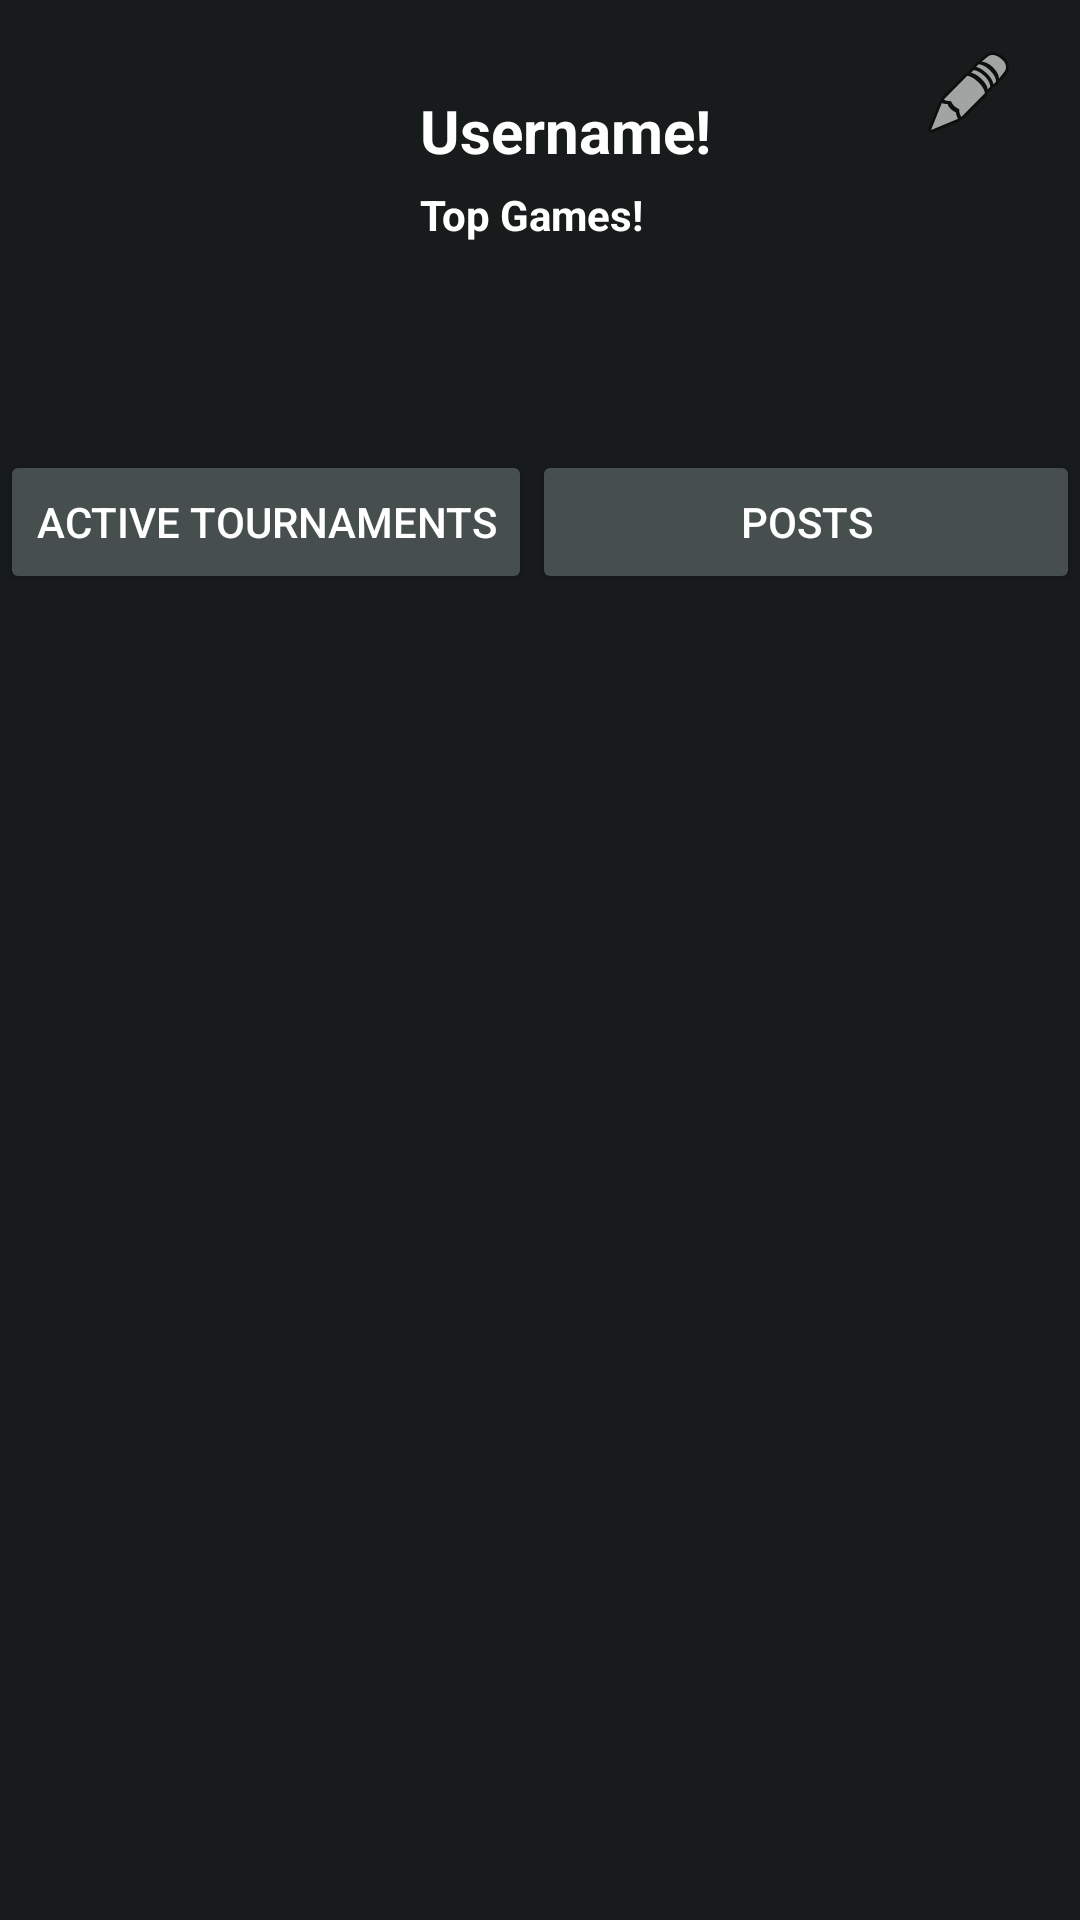

Named icons in this screenshot (1080w x 1920h) and their centers, [x,y]:
edit: [968,92]
